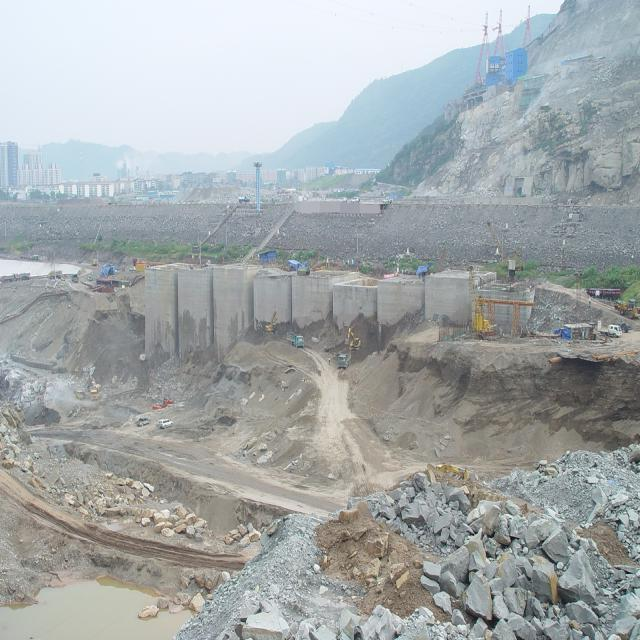crane: (487, 221, 523, 282), (479, 298, 533, 334), (469, 265, 494, 339), (22, 139, 44, 150)
excavator: (436, 464, 469, 479), (264, 309, 280, 335), (344, 328, 360, 352), (153, 399, 175, 409)
machinery: (611, 299, 637, 319)
truck: (596, 320, 622, 337), (337, 350, 351, 369), (287, 332, 303, 347), (613, 321, 632, 332), (12, 273, 31, 281), (91, 389, 101, 401), (47, 271, 61, 278), (0, 275, 12, 283), (71, 273, 79, 283)
